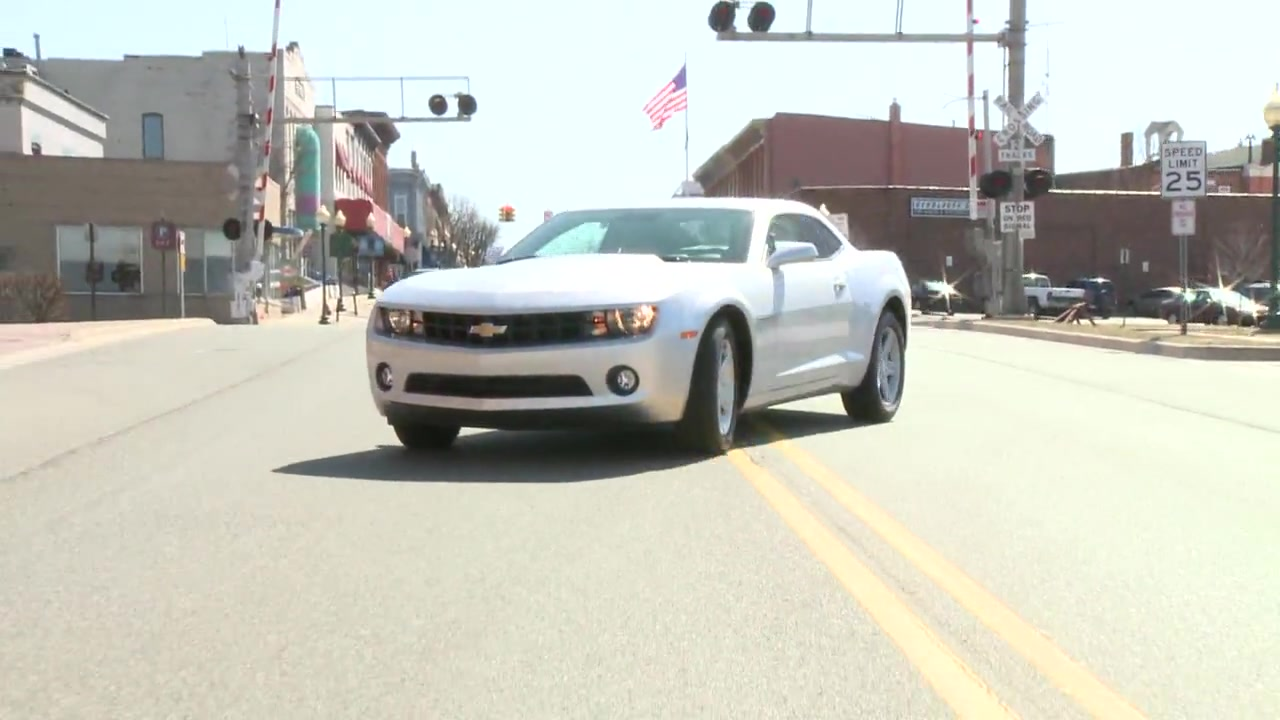car: (364, 188, 917, 452)
